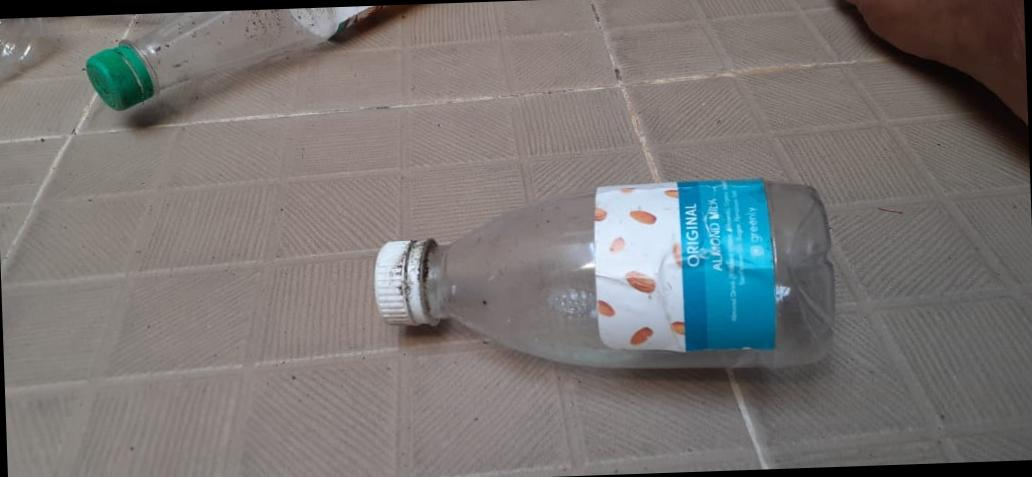Plastik: (371, 172, 839, 383), (82, 3, 445, 119)
